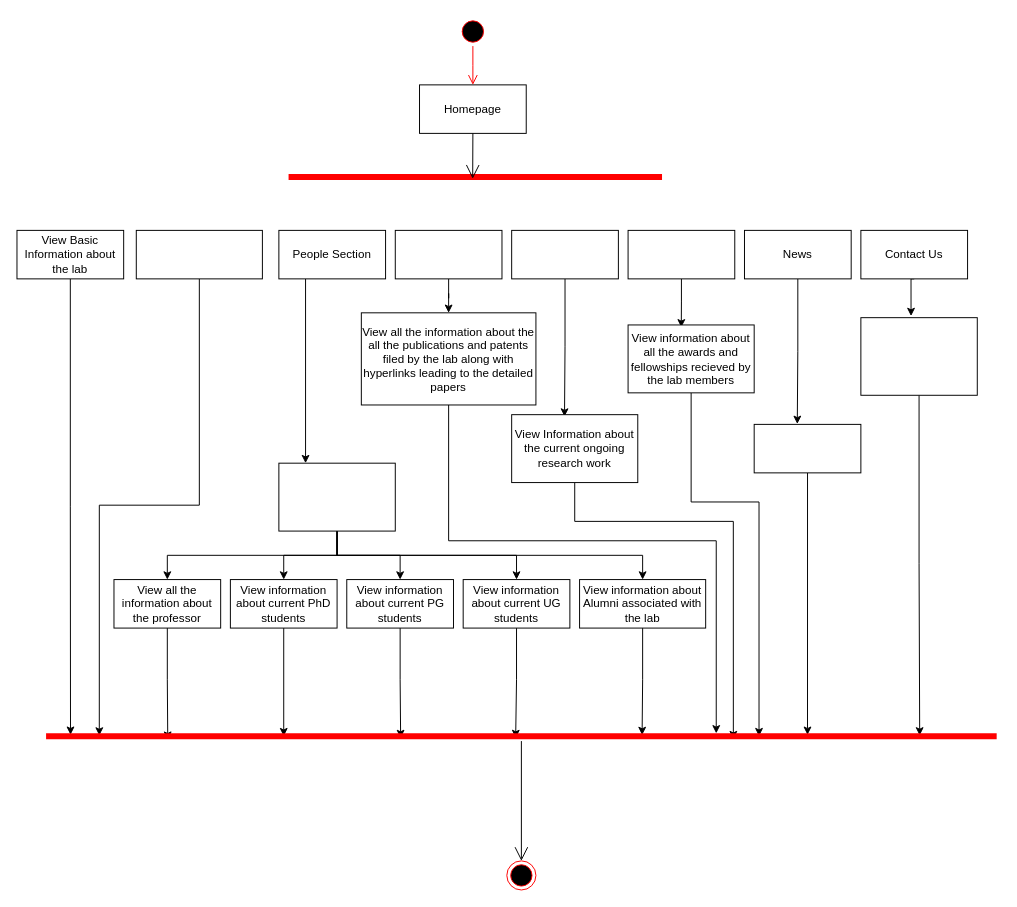
The diagram is 1017 pixels wide and 907 high, and some of its shapes have lost their labels. Each missing label, with the box of its shape:
Awards: (627, 229, 735, 279)
Publications and Patents: (394, 229, 502, 279)
Research: (511, 229, 618, 279)
Use sidebar navigation to access different sections efficiently: (278, 462, 395, 531)
View all the latest as well as old news: (753, 423, 861, 473)
View the Name, Email, Mobile number, and other information about the professor: (860, 317, 977, 395)
Visit official website and social media handles of the professor: (135, 229, 262, 279)
